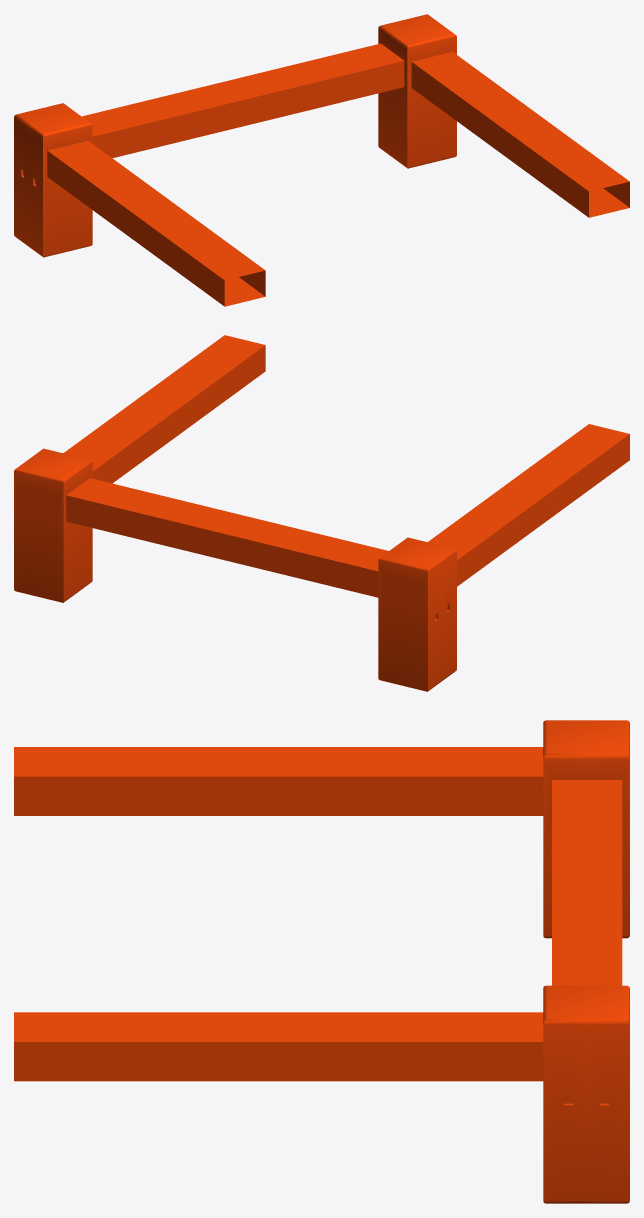
Rendered from Shelf_06_End_Under_04.glb.
The picture shows the model from 3 angles, top to bottom: view 1: azimuth 30°, elevation 25°; view 2: azimuth 150°, elevation 25°; view 3: azimuth 270°, elevation 25°; orthographic projection. The views are drawn at different scales.
Visible parts, largest first — view 1: Mesh_Shelf_06_End_Under_04; view 2: Mesh_Shelf_06_End_Under_04; view 3: Mesh_Shelf_06_End_Under_04.
Part boxes in pixels (x1=…): Mesh_Shelf_06_End_Under_04: x1=14, y1=14, x2=629, y2=306; Mesh_Shelf_06_End_Under_04: x1=14, y1=335, x2=629, y2=691; Mesh_Shelf_06_End_Under_04: x1=14, y1=720, x2=629, y2=1203.
Size of the model in its own units: 1.01 by 0.2884 by 0.8729.
Materials: 1 (1 with a texture image).
